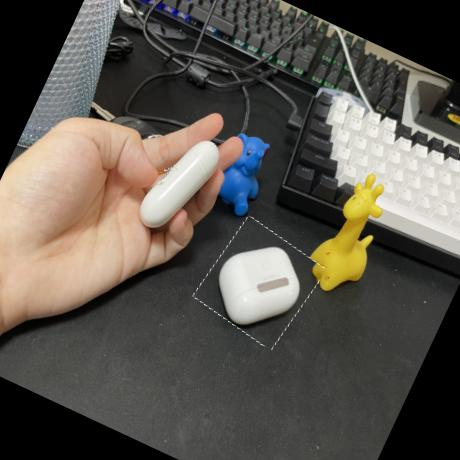airpod2: (132, 118, 231, 247)
airpod3: (190, 214, 327, 352)
